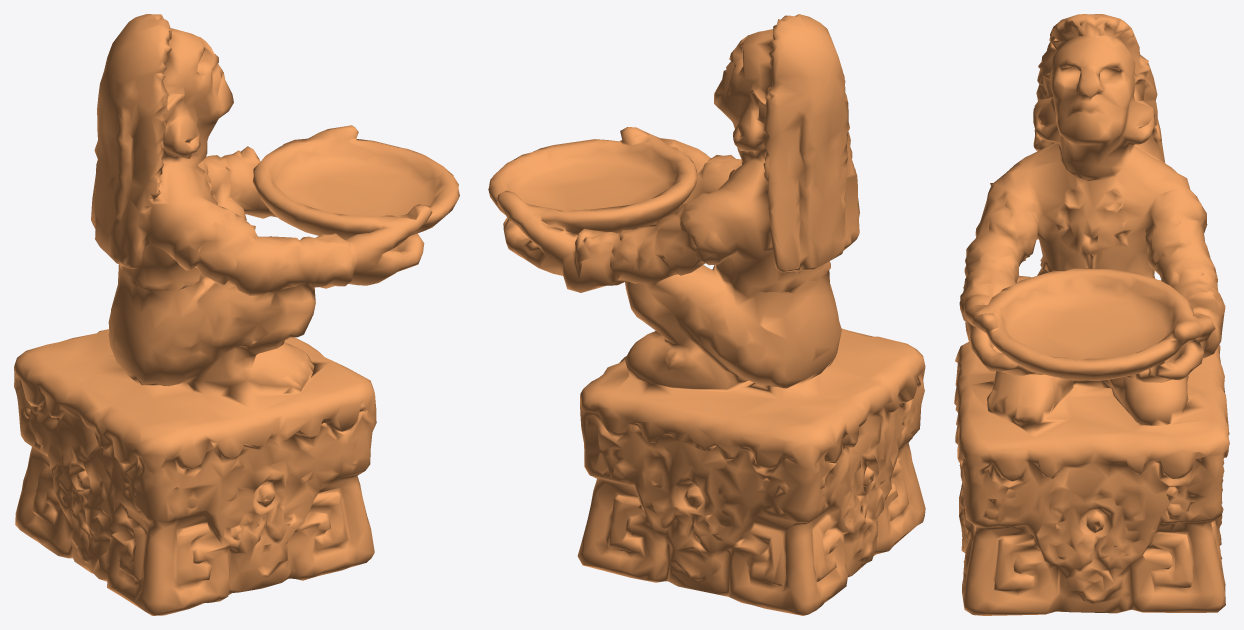
File: hard.glb
The picture shows the model from 3 angles, left to right: view 1: azimuth 30°, elevation 25°; view 2: azimuth 150°, elevation 25°; view 3: azimuth 270°, elevation 25°; orthographic projection.
Visible parts, largest first — view 1: pmp_remesh; view 2: pmp_remesh; view 3: pmp_remesh.
Part boxes in pixels (x1,y1,x2,y2): pmp_remesh: [14, 14, 459, 615]; pmp_remesh: [488, 14, 925, 615]; pmp_remesh: [954, 14, 1229, 615].
Size of the model in its own units: 0.7203 by 0.9801 by 0.4625.
